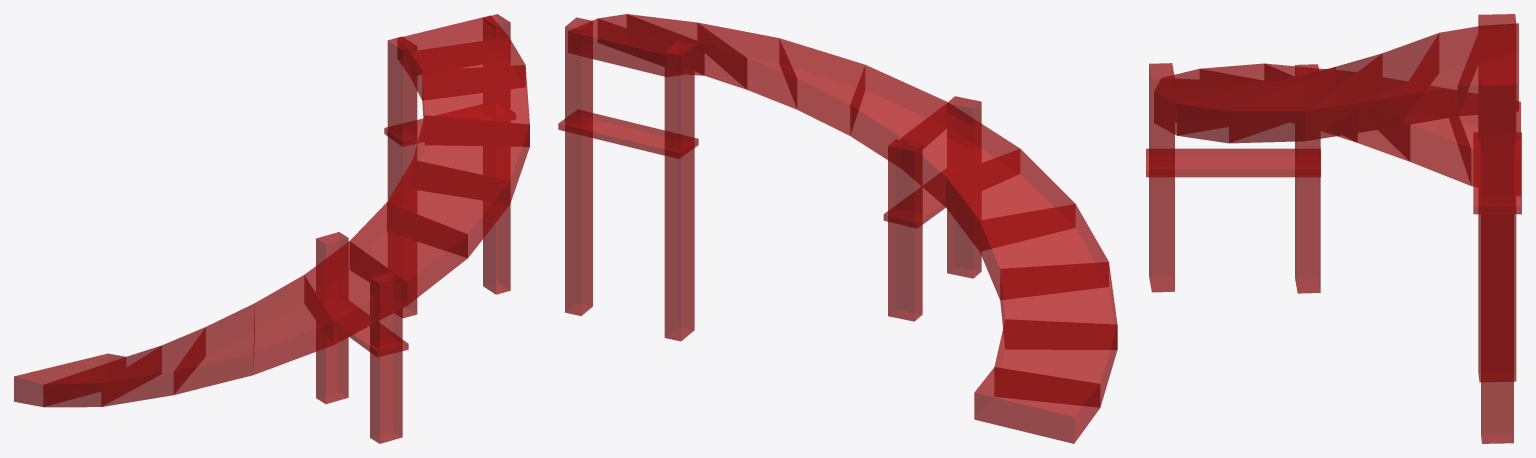
Rendered from SM_Bld_Stairs_Round_L_Wood_01_Collision.fbx.
The picture shows the model from 3 angles, left to right: view 1: azimuth 30°, elevation 25°; view 2: azimuth 150°, elevation 25°; view 3: azimuth 270°, elevation 25°; orthographic projection. The views are drawn at different scales.
Visible parts, largest first — view 1: SM_Bld_Stairs_Round_L_Wood_01_Collision; view 2: SM_Bld_Stairs_Round_L_Wood_01_Collision; view 3: SM_Bld_Stairs_Round_L_Wood_01_Collision.
Boxes of the visible parts, x1,y1,x2,y2 form: SM_Bld_Stairs_Round_L_Wood_01_Collision: (14, 14, 529, 443); SM_Bld_Stairs_Round_L_Wood_01_Collision: (558, 14, 1117, 443); SM_Bld_Stairs_Round_L_Wood_01_Collision: (1146, 14, 1521, 443).
Size of the model in its own units: 995 by 535 by 501.
